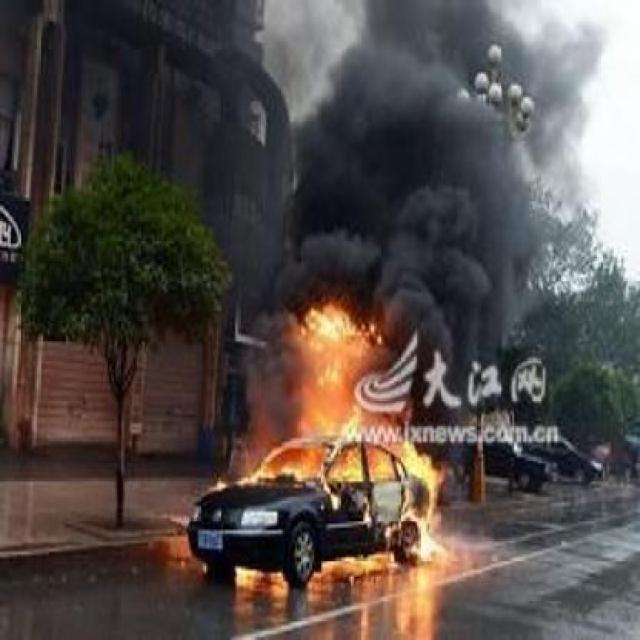Fire: (218, 306, 436, 496), (322, 554, 401, 572), (226, 562, 290, 584)
